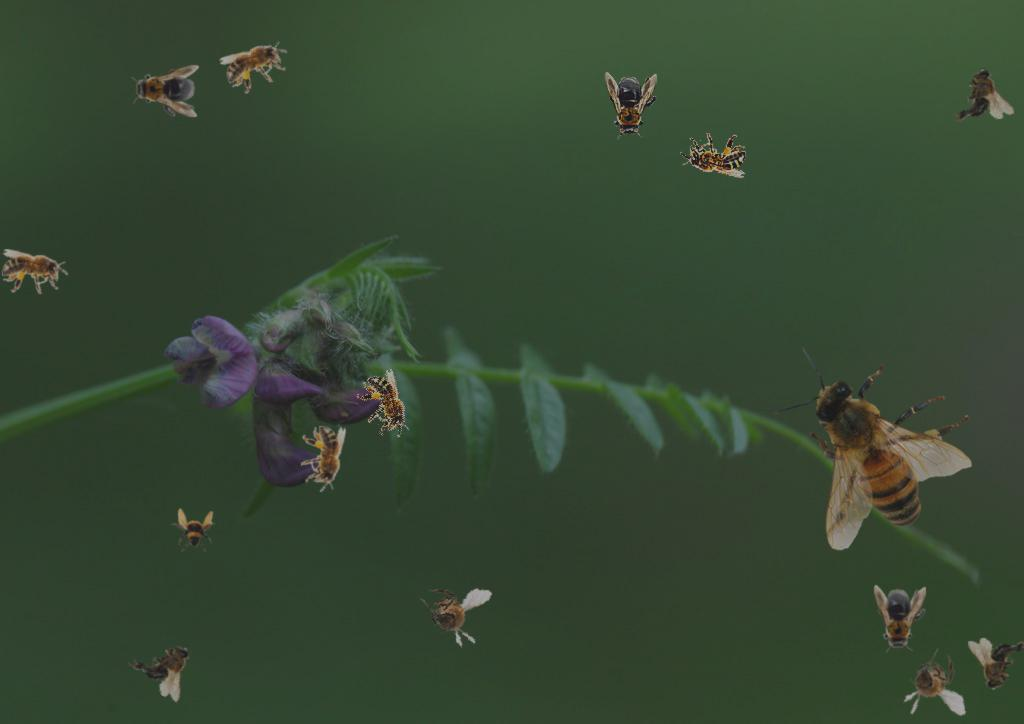Bee: (773, 347, 972, 551), (125, 625, 208, 705), (412, 578, 493, 652), (350, 366, 422, 447), (217, 29, 297, 100), (896, 645, 967, 723), (946, 64, 1015, 126), (131, 65, 199, 117), (874, 585, 926, 653), (605, 72, 657, 140), (680, 133, 746, 178), (2, 249, 68, 294), (301, 426, 346, 492), (968, 638, 1024, 691), (171, 508, 215, 552)
